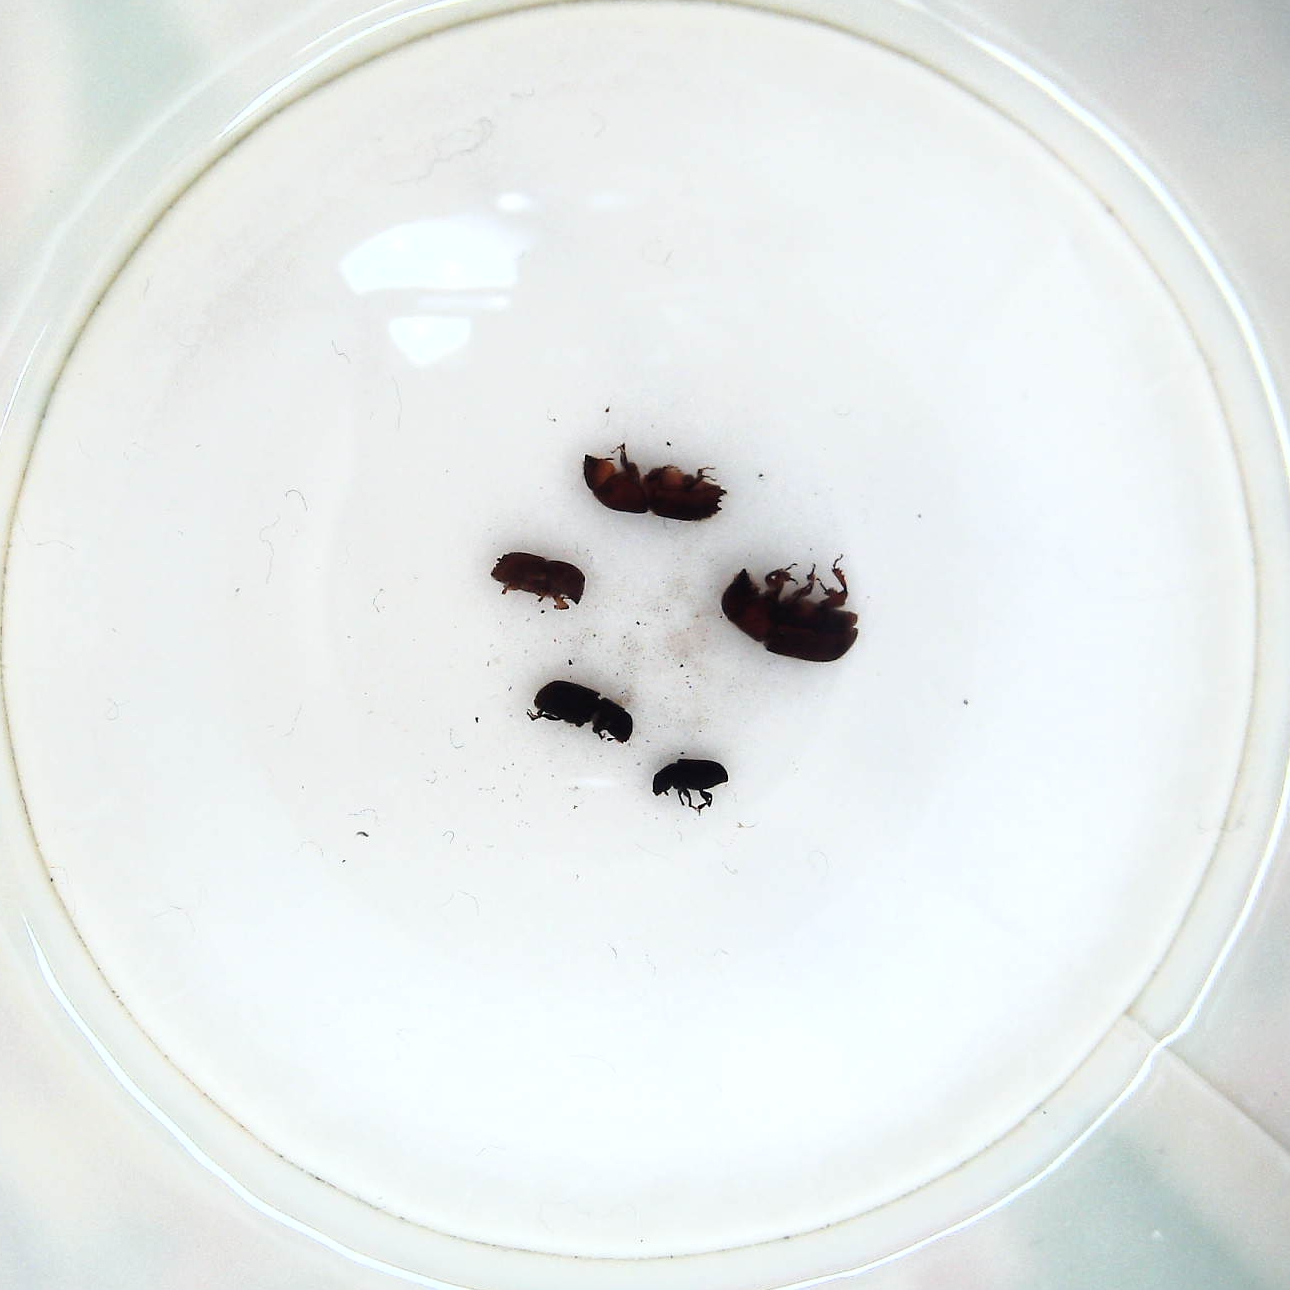Boerner: (574, 441, 731, 527)
Leconte: (721, 559, 865, 671)
armandi: (517, 676, 638, 749)
coleoptera: (649, 756, 731, 817)
linnaeus: (486, 547, 594, 615)
